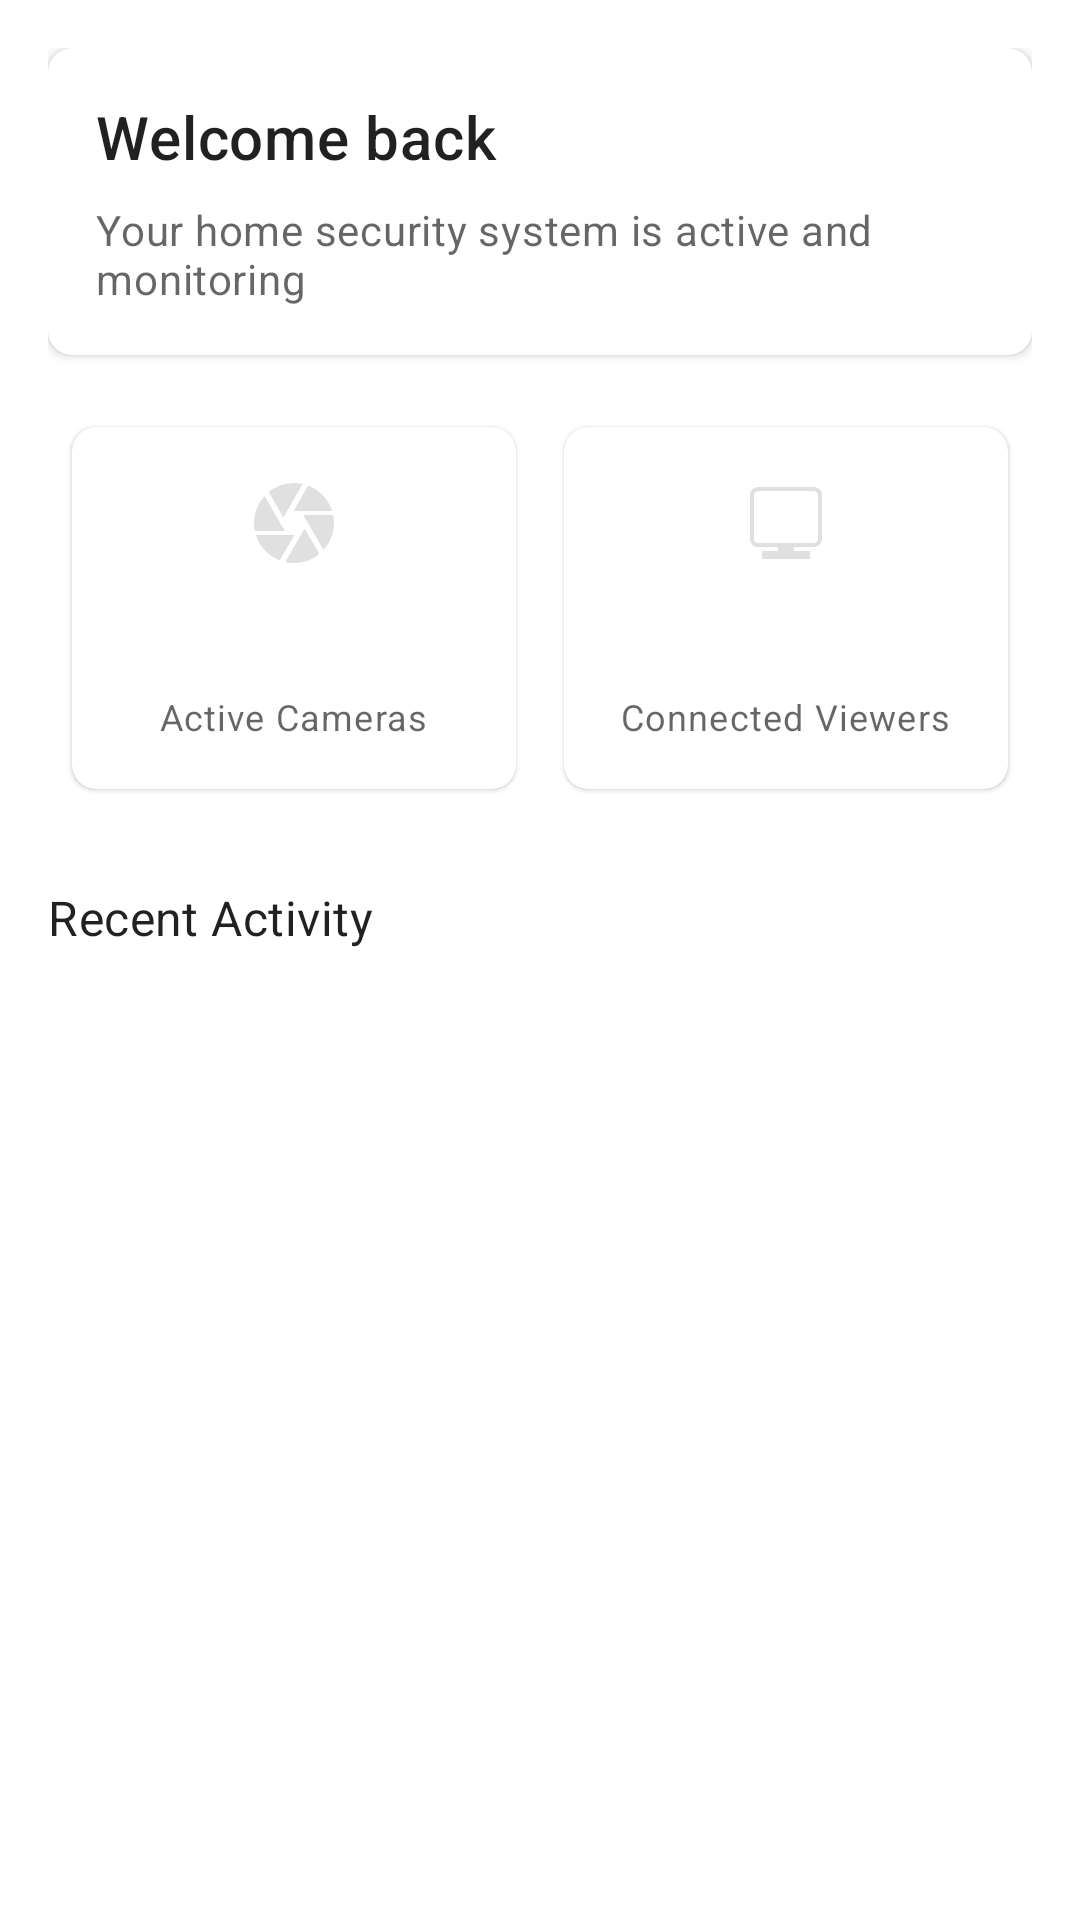

Named icons in this screenshot (1080px x 1920px) and their centers, (x=x, y=y):
monitor: (x=786, y=523)
